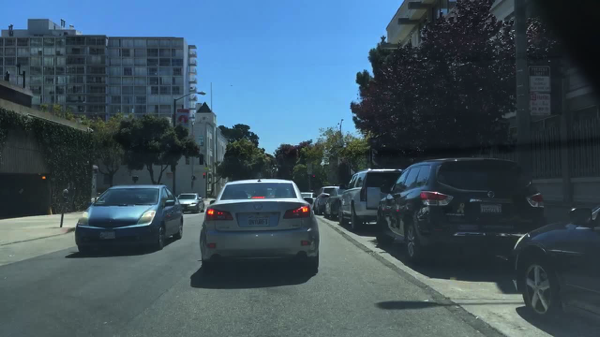car: (375, 157, 545, 267), (199, 177, 320, 276), (510, 202, 599, 331), (75, 184, 183, 255), (338, 167, 406, 232), (323, 184, 347, 220), (315, 185, 339, 216), (176, 192, 205, 214), (300, 191, 316, 210)
traffic light: (202, 172, 206, 179), (312, 173, 316, 179)
traffic sign: (528, 65, 552, 118), (179, 109, 190, 130)
